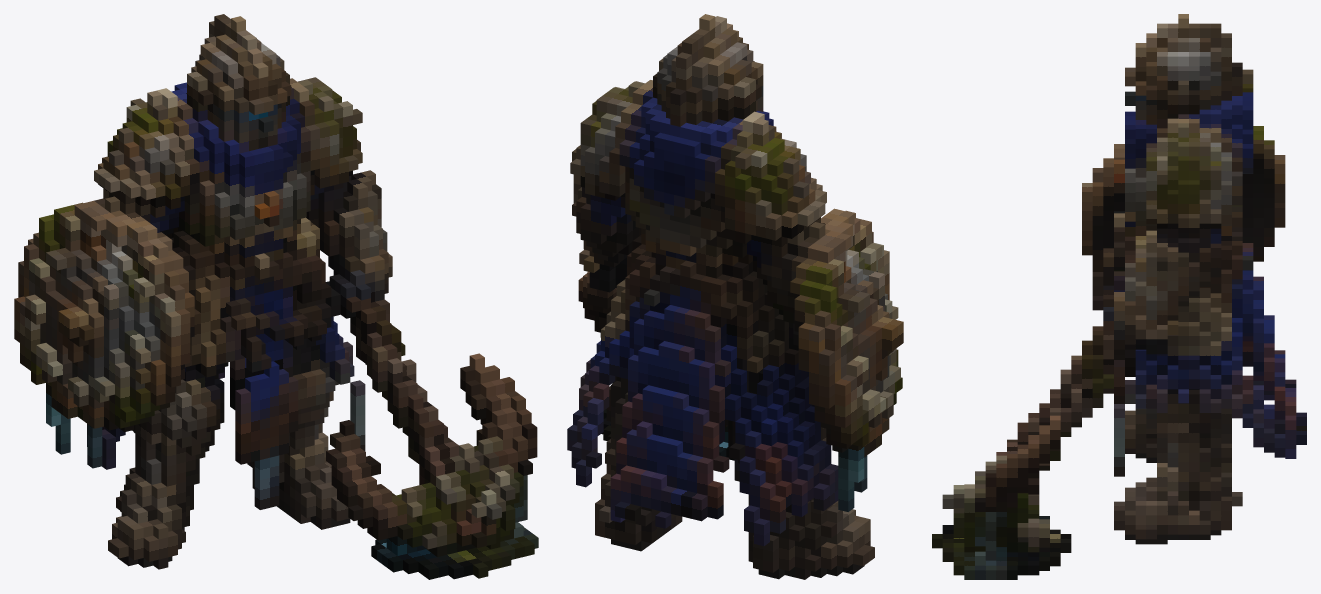
The model's file is u_sentinelle.glb.
3 renders of one model, left to right at view 1: azimuth 30°, elevation 25°; view 2: azimuth 150°, elevation 25°; view 3: azimuth 270°, elevation 25°, orthographic. The views are drawn at different scales.
Parts seen in each view (by area): view 1: sentinelle_body; view 2: sentinelle_body; view 3: sentinelle_body.
Part boxes in pixels (x1,y1,x2,y2): sentinelle_body: (14, 14, 538, 579); sentinelle_body: (567, 14, 903, 579); sentinelle_body: (932, 14, 1306, 579).
Bounding box in the file's own units: 1.44 × 1.85 × 1.29.
1 material, 1 textured.
